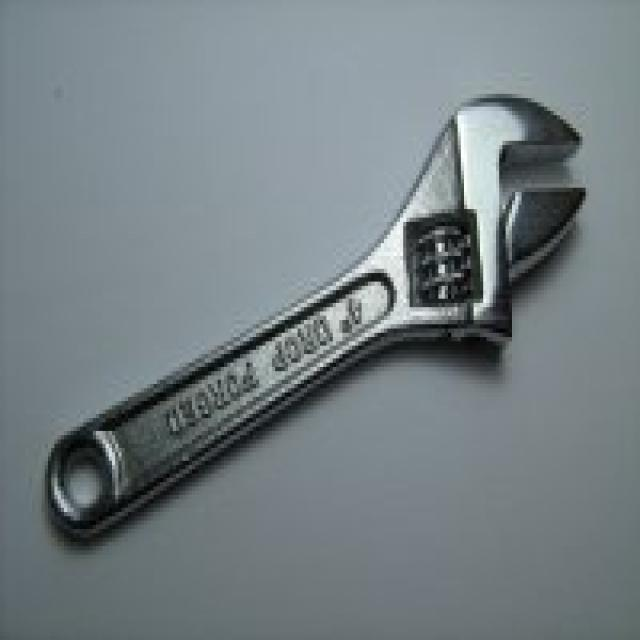wrench: (41, 85, 592, 549)
